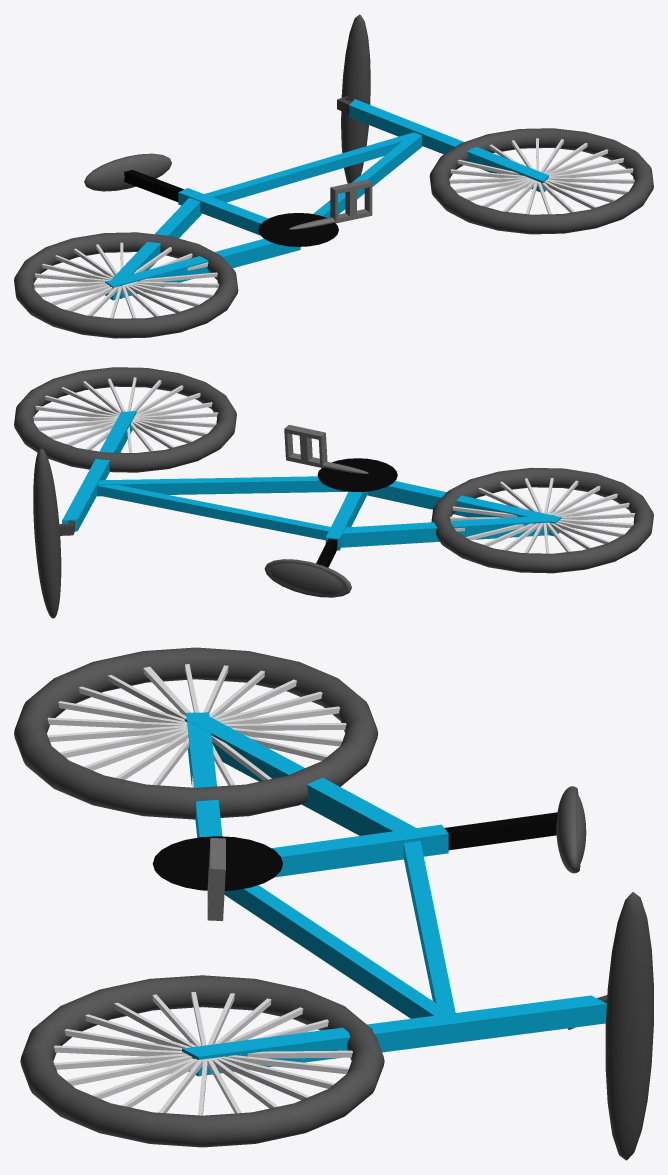
The model's file is Bike_Blue.fbx.
The picture shows the model from 3 angles, top to bottom: view 1: azimuth 30°, elevation 25°; view 2: azimuth 150°, elevation 25°; view 3: azimuth 270°, elevation 25°; orthographic projection. The views are drawn at different scales.
Parts seen in each view (by area): view 1: pasted__pasted__pTorus1, pasted__pTorus1, pasted__pCube2 (×2), pSphere1, pCube3, pCube1, pDisc1, pSphere2, pasted__pCube1, pasted__pCube3, pCube2, pCube4; view 2: pasted__pTorus1, pasted__pasted__pTorus1, pSphere1, pCube3, pasted__pCube1, pasted__pCube3, pasted__pCube2 (×2), pSphere2, pCube1, pDisc1, pCube4, pCube2; view 3: pasted__pasted__pTorus1, pasted__pTorus1, pasted__pCube2 (×2), pSphere1, pasted__pasted__pasted__pasted__pasted__pasted__pasted__pCub (×10), pasted__pasted__pasted__pasted__pasted__pasted__pasted__past (×10), pasted__pCube3, pasted__pCube1, pCube2, pDisc1, pCube3, pCube1 (+2 smaller).
Boxes of the visible parts, x1=… form: pasted__pasted__pTorus1: x1=429, y1=128, x2=653, y2=234; pasted__pTorus1: x1=14, y1=232, x2=238, y2=338; pasted__pCube2 (×2): x1=124, y1=99, x2=548, y2=201; pSphere1: x1=341, y1=14, x2=370, y2=183; pCube3: x1=204, y1=132, x2=413, y2=202; pCube1: x1=105, y1=239, x2=300, y2=300; pDisc1: x1=258, y1=213, x2=338, y2=246; pSphere2: x1=84, y1=153, x2=171, y2=191; pasted__pCube1: x1=108, y1=197, x2=202, y2=298; pasted__pCube3: x1=295, y1=132, x2=422, y2=248; pCube2: x1=178, y1=188, x2=268, y2=235; pCube4: x1=330, y1=179, x2=372, y2=223; pasted__pTorus1: x1=431, y1=467, x2=653, y2=573; pasted__pasted__pTorus1: x1=14, y1=367, x2=236, y2=472; pSphere1: x1=33, y1=448, x2=61, y2=618; pCube3: x1=97, y1=485, x2=330, y2=540; pasted__pCube1: x1=341, y1=515, x2=555, y2=547; pasted__pCube3: x1=97, y1=476, x2=346, y2=496; pasted__pCube2 (×2): x1=62, y1=411, x2=337, y2=567; pSphere2: x1=264, y1=559, x2=351, y2=597; pCube1: x1=367, y1=481, x2=561, y2=536; pDisc1: x1=317, y1=458, x2=397, y2=492; pCube4: x1=284, y1=425, x2=327, y2=467; pCube2: x1=325, y1=491, x2=368, y2=550; pasted__pasted__pTorus1: x1=20, y1=975, x2=384, y2=1147; pasted__pTorus1: x1=14, y1=647, x2=378, y2=819; pasted__pCube2 (×2): x1=182, y1=812, x2=606, y2=1076; pSphere1: x1=605, y1=892, x2=653, y2=1160; pasted__pasted__pasted__pasted__pasted__pasted__pasted__pCub (×10): x1=47, y1=686, x2=346, y2=770; pasted__pasted__pasted__pasted__pasted__pasted__pasted__past (×10): x1=54, y1=1014, x2=352, y2=1100; pasted__pCube3: x1=224, y1=885, x2=450, y2=1018; pasted__pCube1: x1=184, y1=713, x2=415, y2=835; pCube2: x1=271, y1=824, x2=448, y2=877; pDisc1: x1=152, y1=836, x2=282, y2=890; pCube3: x1=403, y1=840, x2=455, y2=1013; pCube1: x1=186, y1=712, x2=222, y2=837.
Bounding box in the file's own units: 21.39 × 5.7 × 11.98.
